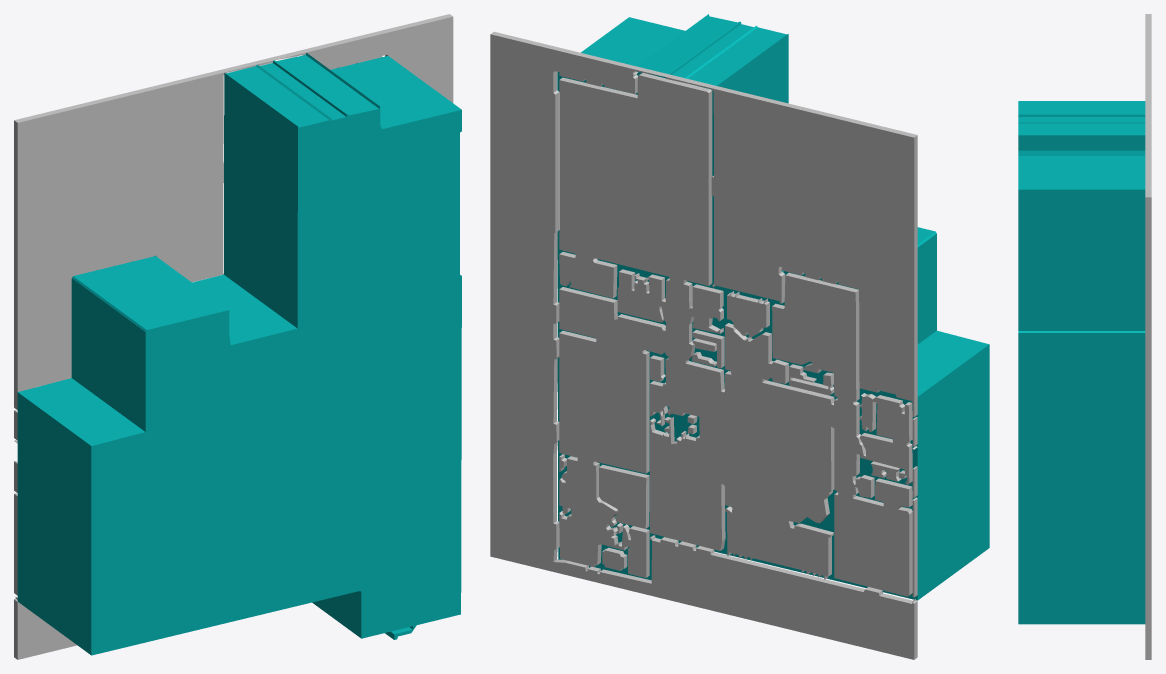
3 views of the same model, side by side, from view 1: azimuth 30°, elevation 25°; view 2: azimuth 150°, elevation 25°; view 3: azimuth 270°, elevation 25° (orthographic). The views are drawn at different scales.
Parts seen in each view (by area): view 1: world; view 2: world; view 3: world.
Boxes of the visible parts, x1=… form: world: x1=14, y1=14, x2=461, y2=659; world: x1=490, y1=14, x2=989, y2=659; world: x1=1018, y1=14, x2=1151, y2=659.
Bounding box in the file's own units: 10.23 × 12.05 × 3.15.
